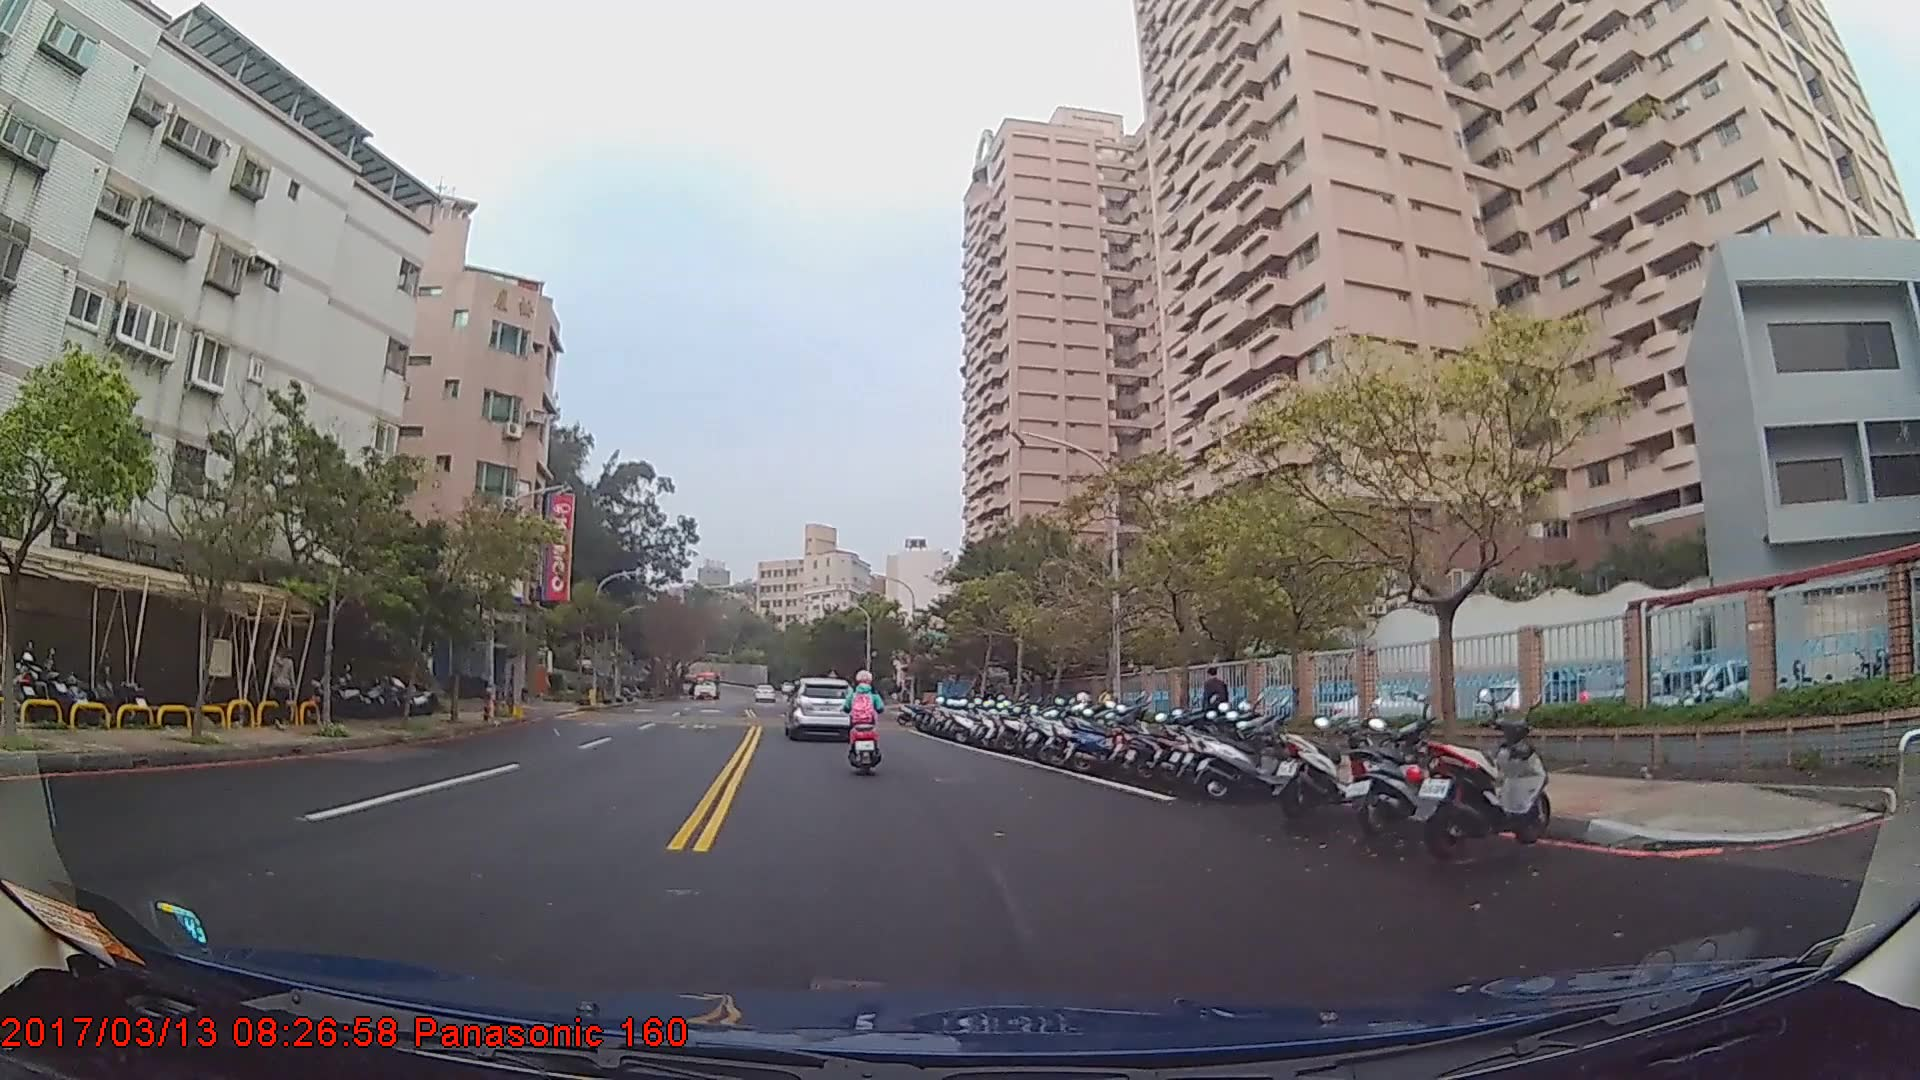pedestrian: (1202, 663, 1232, 744), (269, 647, 295, 730)
rider: (846, 671, 886, 770)
vehicle: (786, 673, 852, 740), (690, 669, 723, 701)
